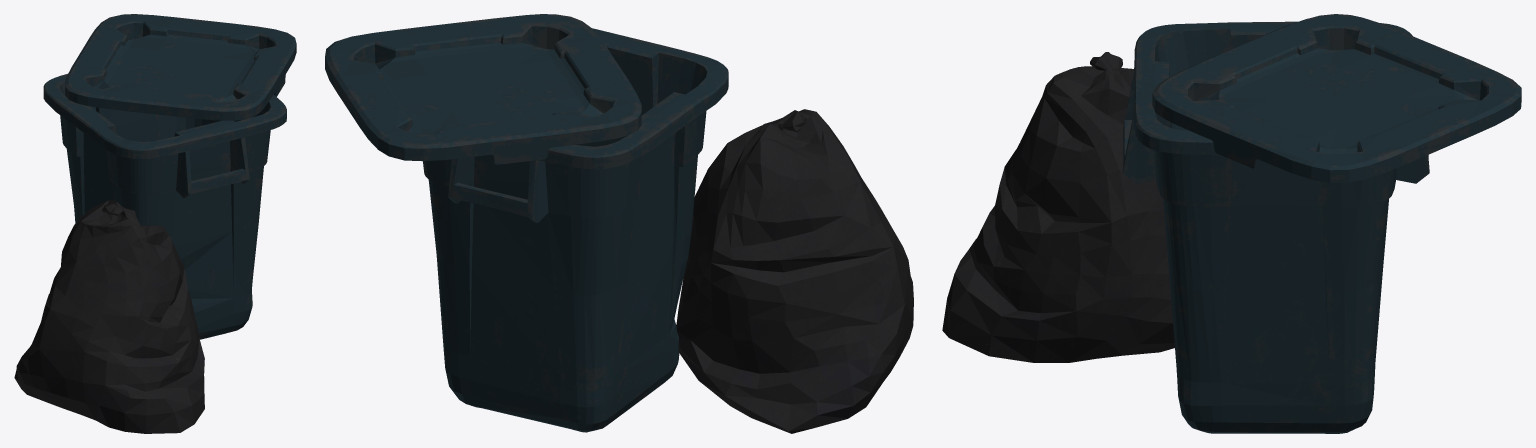
The model's file is Garbage.glb.
The picture shows the model from 3 angles, left to right: view 1: azimuth 30°, elevation 25°; view 2: azimuth 150°, elevation 25°; view 3: azimuth 270°, elevation 25°; orthographic projection. The views are drawn at different scales.
Bounding box in the file's own units: 2.42 × 1.63 × 2.5.
Materials: 2 (2 with a texture image).
